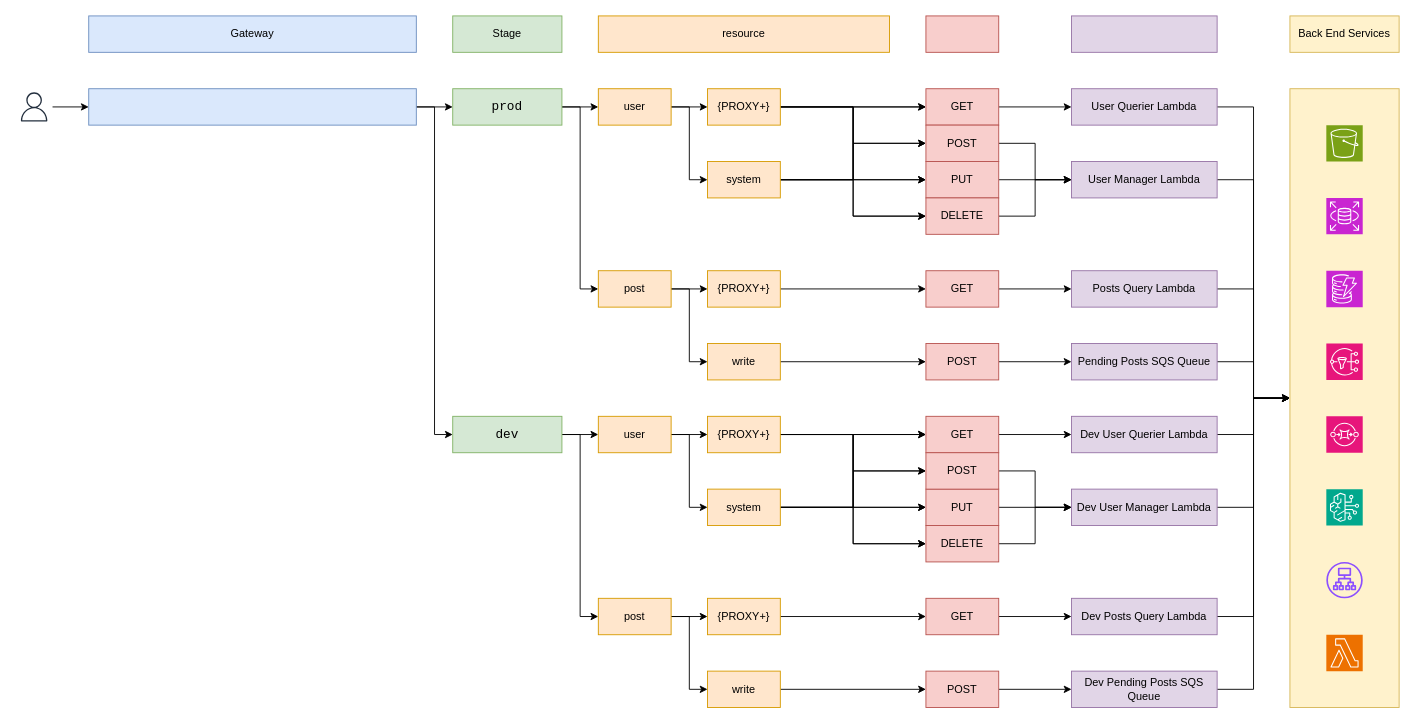
Some shapes in this 1415 by 723 pixel diagram are drawn without their labels. The shapes that lost their labels are listed below. From the top down, each one's centre as x and y in pixels, then its label:
the point at 962,33: method
the point at 1144,33: Integration
the point at 252,106: aaaa123456.execute-api.us-east-1. amazonaws.com
